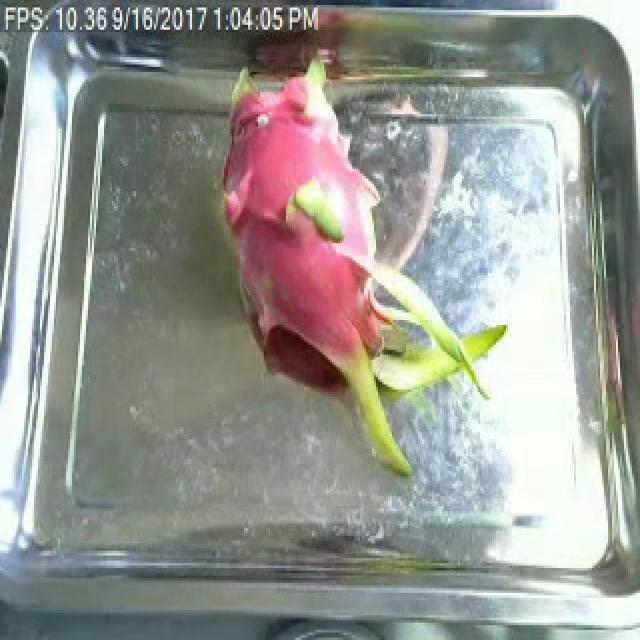fruit: (218, 70, 510, 462)
